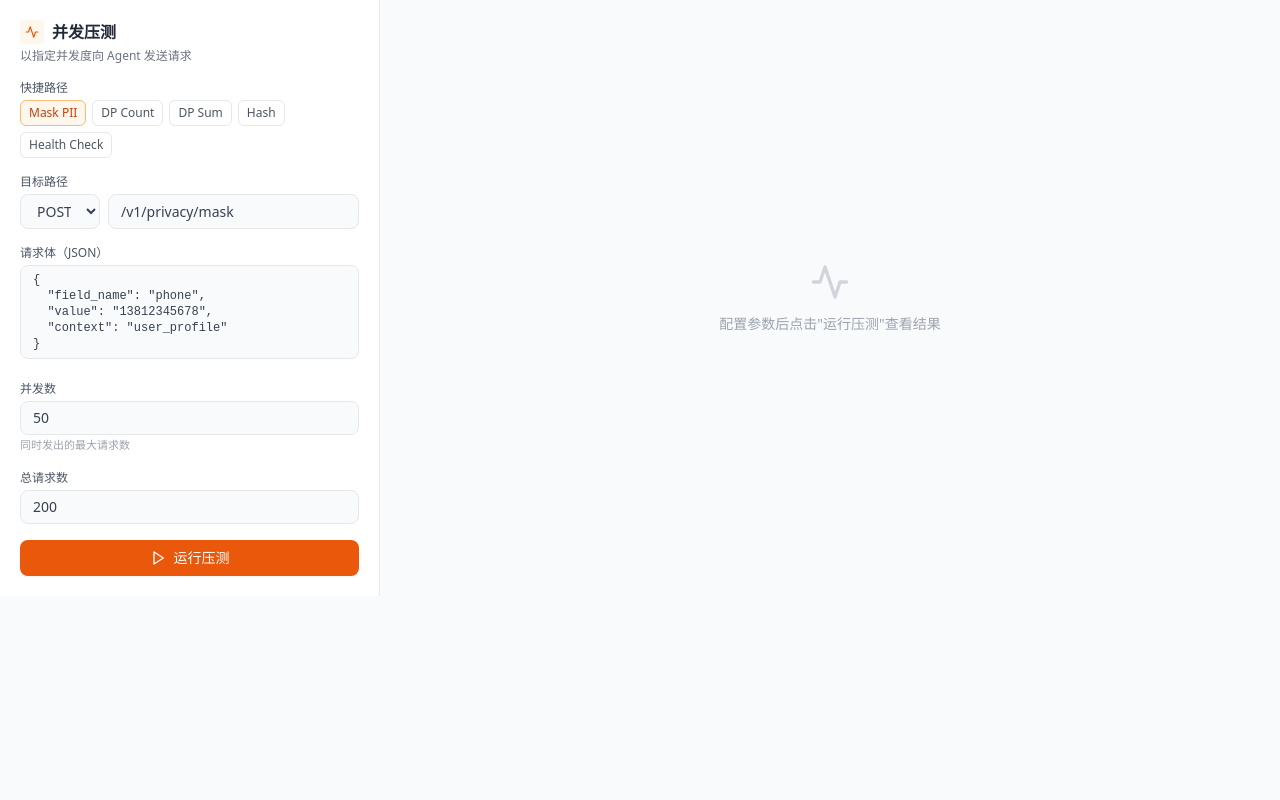
Test: ConcurrencyTestPanel › 运行压测：成功时显示结果
Click the button "运行压测" at point(190, 558), box [20,540,359,576]
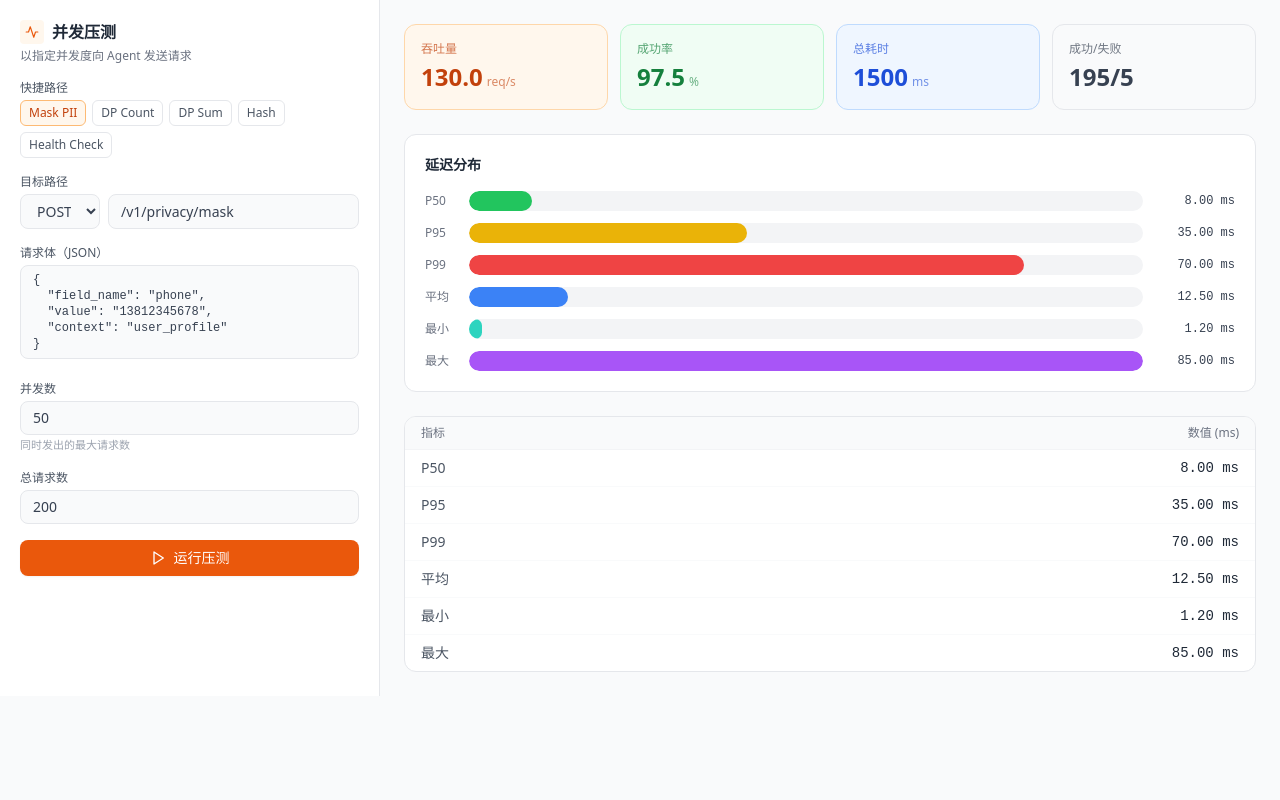
expect the text "130.0" is shown: met, box [421,60,483,93]
